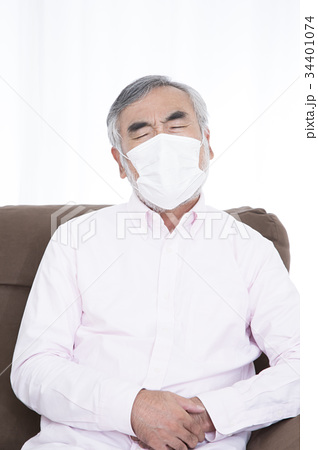mask: (129, 142, 218, 207)
